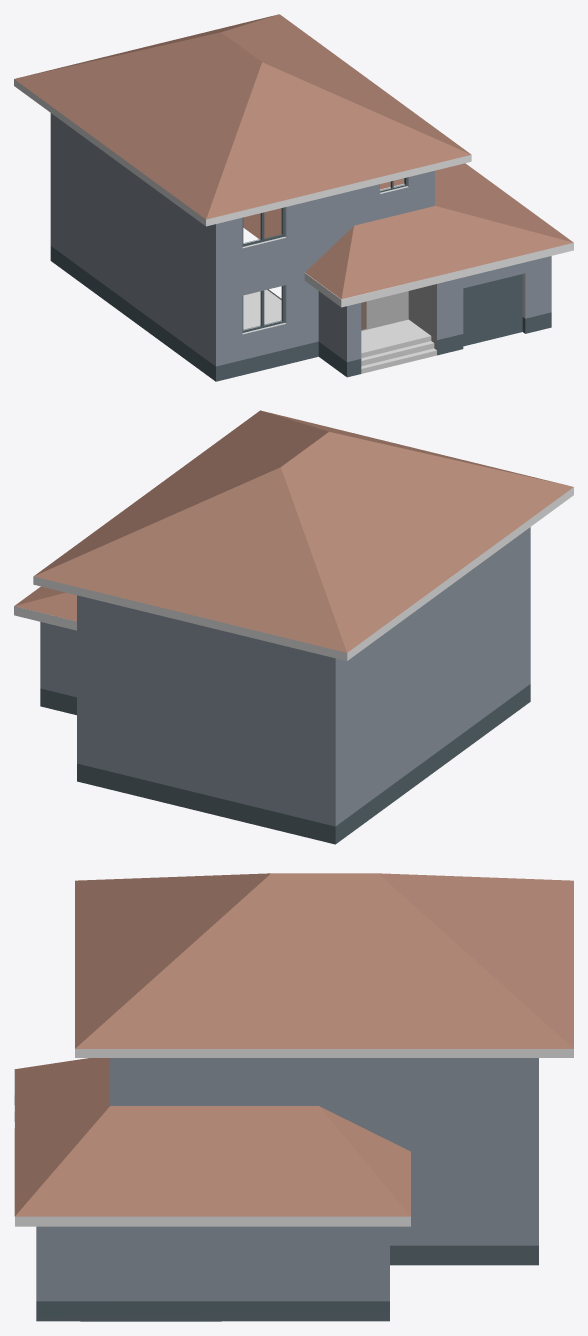
Rendered from HouseForSit.glb.
3 views of the same model, one above another, from view 1: azimuth 30°, elevation 25°; view 2: azimuth 150°, elevation 25°; view 3: azimuth 270°, elevation 25° (orthographic). The views are drawn at different scales.
Parts seen in each view (by area): view 1: Объект_Куб_2_2, Объект_Пирамида, Объект_Пирамида_1, Объект_Куб_1; view 2: Объект_Куб_2_2, Объект_Пирамида, Объект_Пирамида_1; view 3: Объект_Куб_2_2, Объект_Пирамида, Объект_Пирамида_1.
Part boxes in pixels (x1,y1,x2,y2): Объект_Куб_2_2: (14,79,573,381); Объект_Пирамида: (14,14,471,219); Объект_Пирамида_1: (243,163,573,299); Объект_Куб_1: (242,285,284,332); Объект_Куб_2_2: (14,487,573,844); Объект_Пирамида: (34,410,573,652); Объект_Пирамида_1: (14,586,76,621); Объект_Куб_2_2: (14,1049,573,1321); Объект_Пирамида: (75,873,573,1048); Объект_Пирамида_1: (14,1058,410,1216).
Size of what is drawn, in the model's own units: 479 by 329 by 519.
